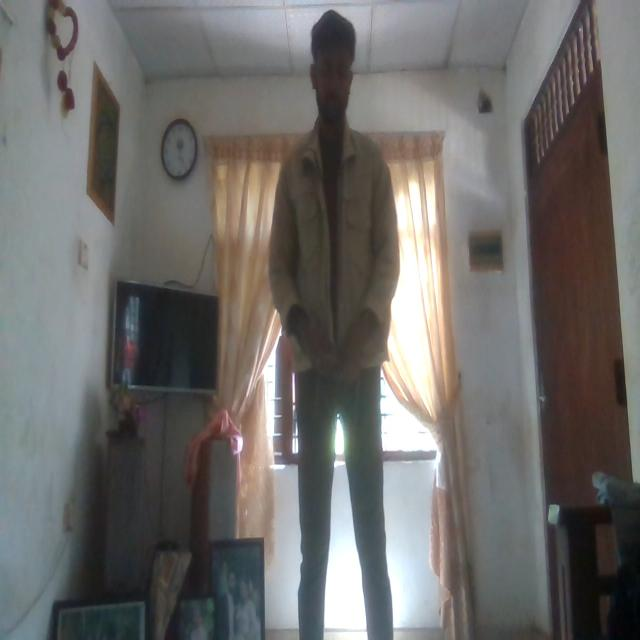Jacket_Wearer: (259, 128, 401, 395)
Person: (276, 38, 416, 615)
